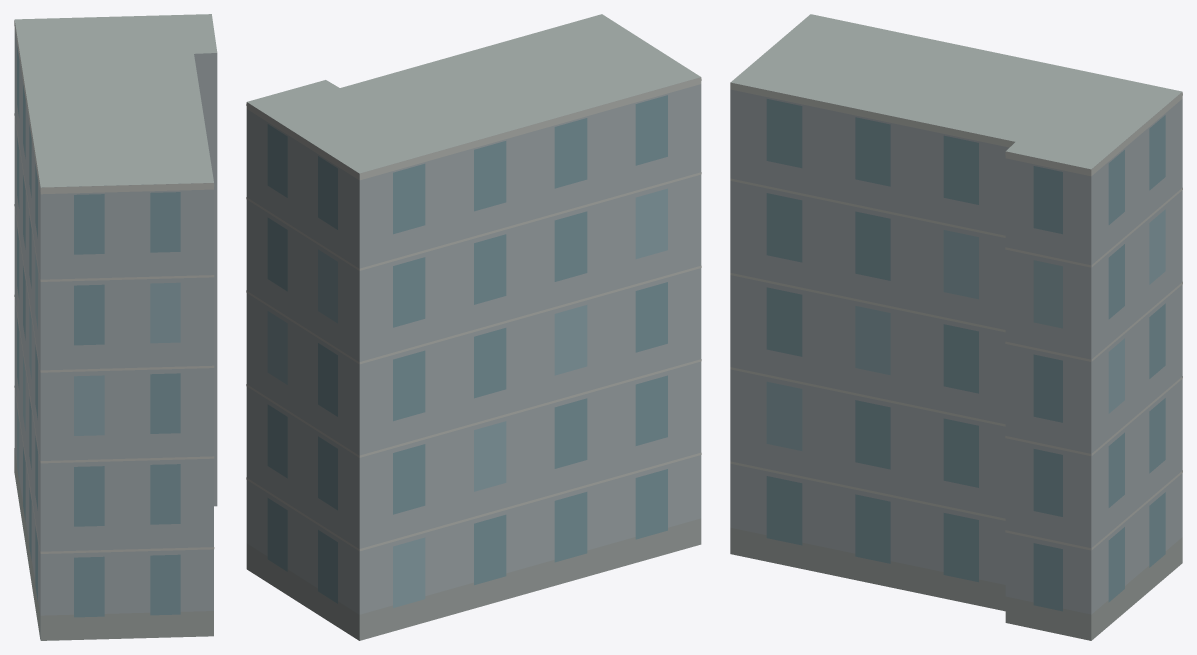
The model's file is survey-upis-32630971.glb.
3 renders of one model, left to right at view 1: azimuth 30°, elevation 25°; view 2: azimuth 150°, elevation 25°; view 3: azimuth 270°, elevation 25°, orthographic. The views are drawn at different scales.
Parts seen in each view (by area): view 1: survey-upis-32630971.tmp; view 2: survey-upis-32630971.tmp; view 3: survey-upis-32630971.tmp.
Boxes of the visible parts, box(x1,y1,x2,y2) form: survey-upis-32630971.tmp: box(14, 14, 217, 640); survey-upis-32630971.tmp: box(246, 14, 701, 640); survey-upis-32630971.tmp: box(730, 14, 1182, 640).
Size of the model in its own units: 11.65 by 16.45 by 14.32.
